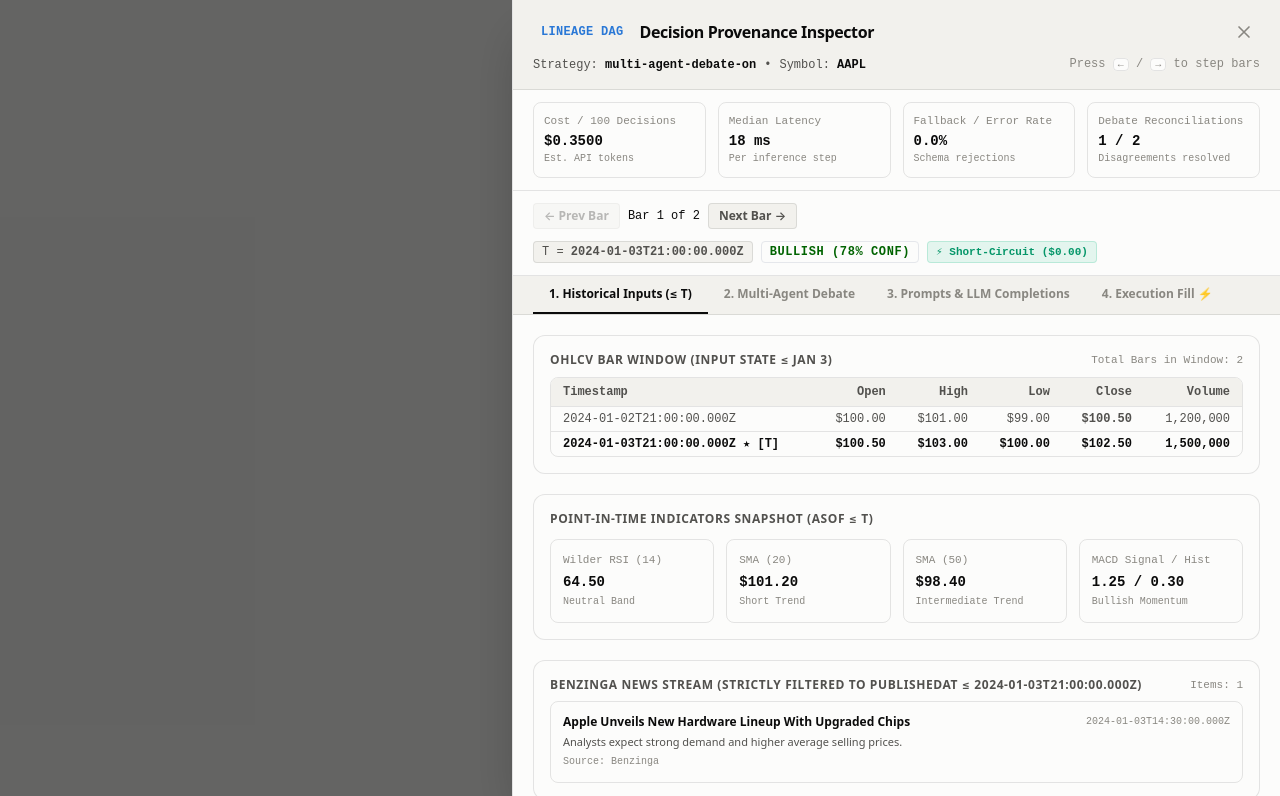
Test: Decision Lineage DAG Inspector & Telemetry HUD › navigates through decision bars using stepper buttons
The width and height of the screenshot is (1280, 796).
Check: the text "Bar 1 of 2" is shown, box [628,208,700,224]
Note: Click Next Bar
Step 1. Click the button "Next Bar →" → click(752, 216), box [708,203,797,229]
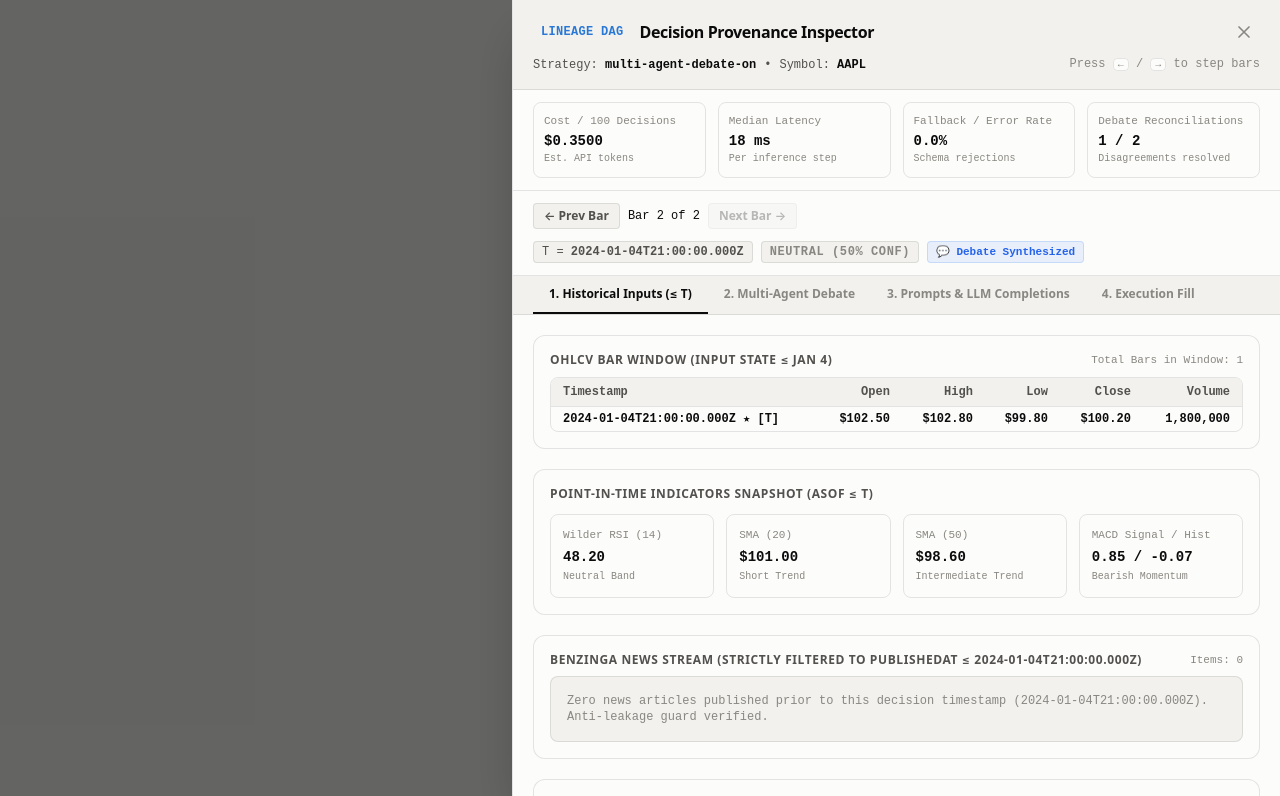
Check: the text "Bar 2 of 2" is shown, box [628,208,700,224]
Check: the text "💬 Debate Synthesized" is shown, box [927,241,1084,263]
Check: the text "neutral (50% conf)" is shown, box [761,241,919,263]
Note: Click Prev Bar
Step 2. Click the button "← Prev Bar" → click(576, 216), box [533,203,620,229]
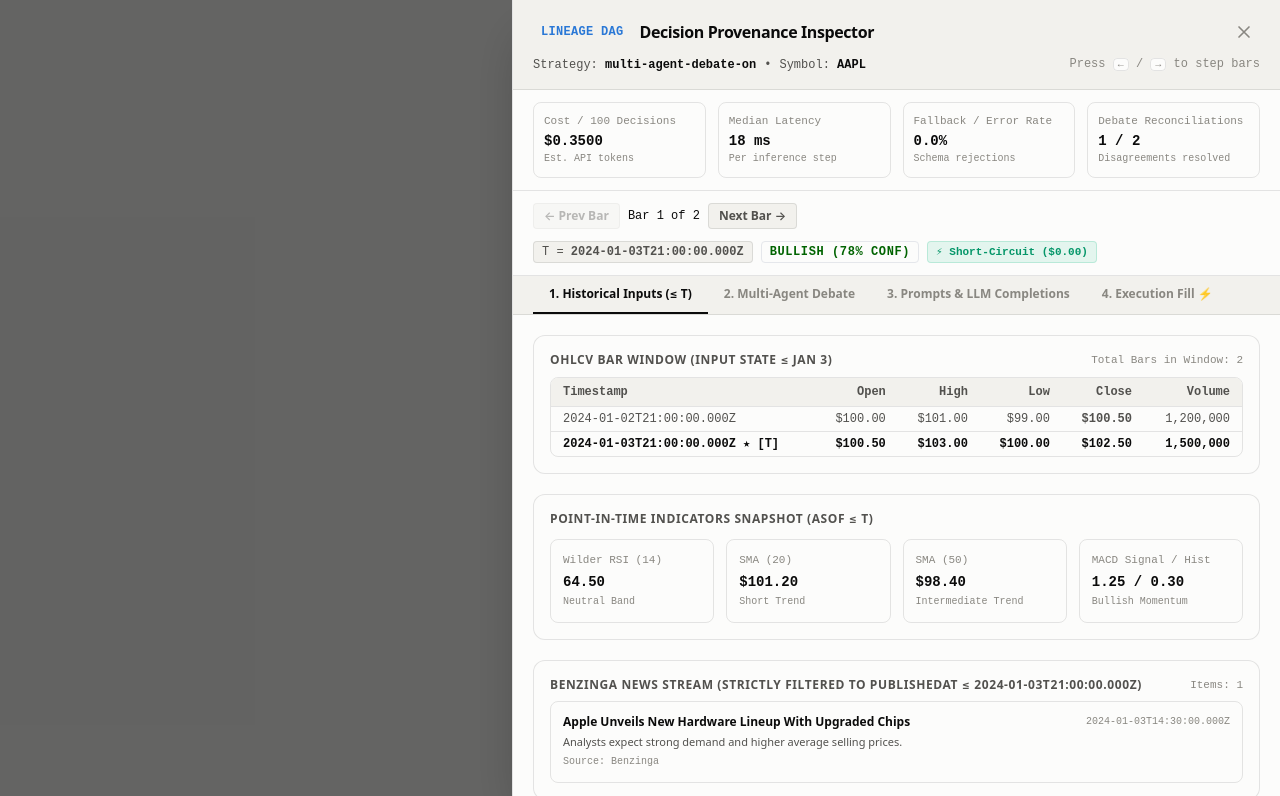
Check: the text "Bar 1 of 2" is shown, box [628,208,700,224]
